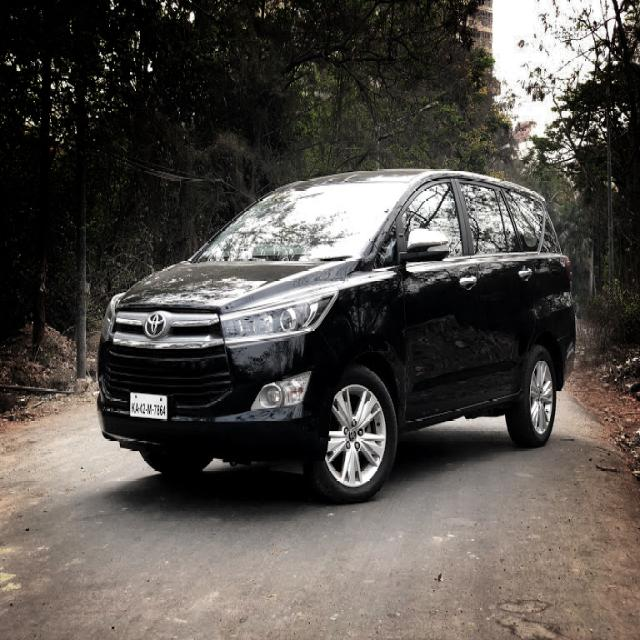light_vehicle: (96, 168, 577, 503)
